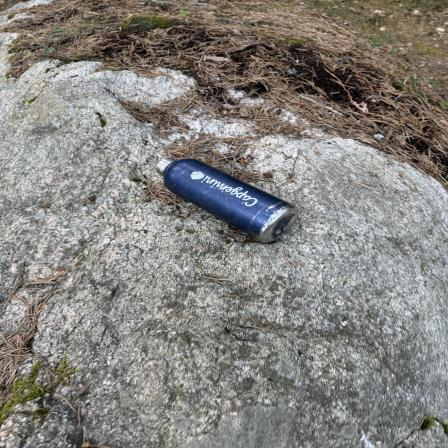blue_bottle: (152, 155, 299, 244)
